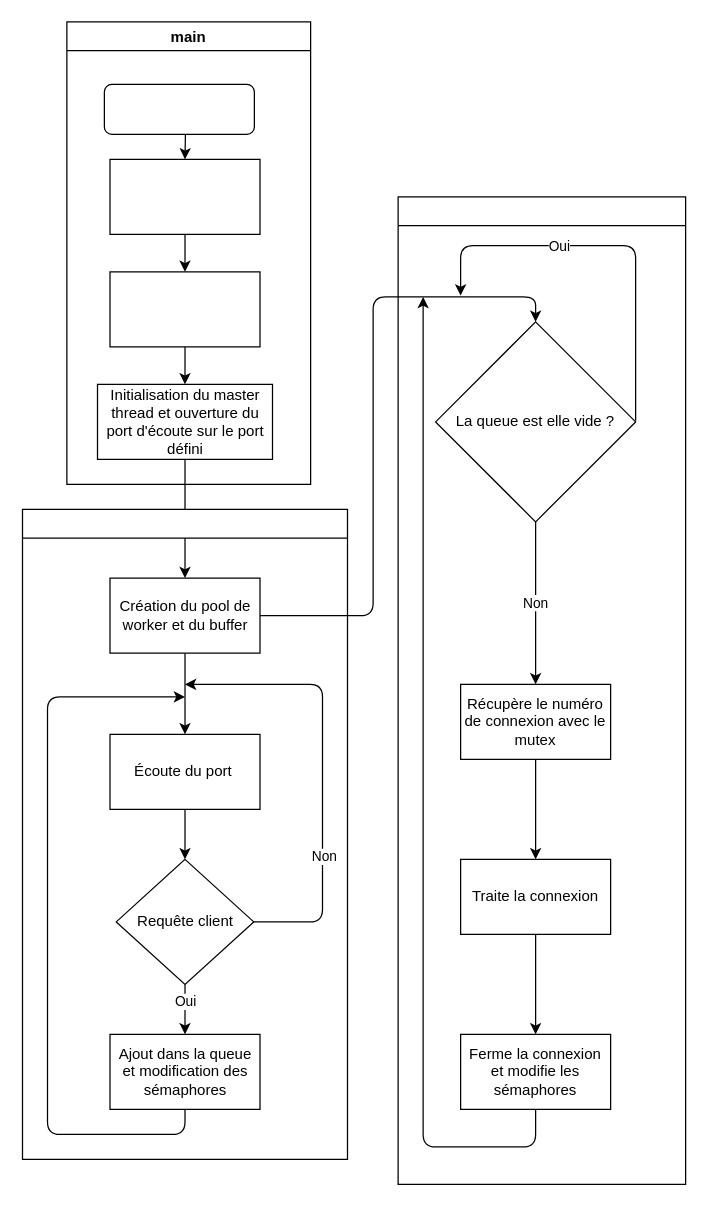
Image size: 708x1206. Some labels were removed from this diagram. The centre of each missing label's shape, as x and y in pixels:
"Début wserver" belongs at pixel 178 108.
"Extraction des paramètres" belongs at pixel 184 196.
"Master thread" belongs at pixel 184 833.
"Pour chaque worker thread" belongs at pixel 541 690.
"Vérification du répertoir de travail" belongs at pixel 184 309.
